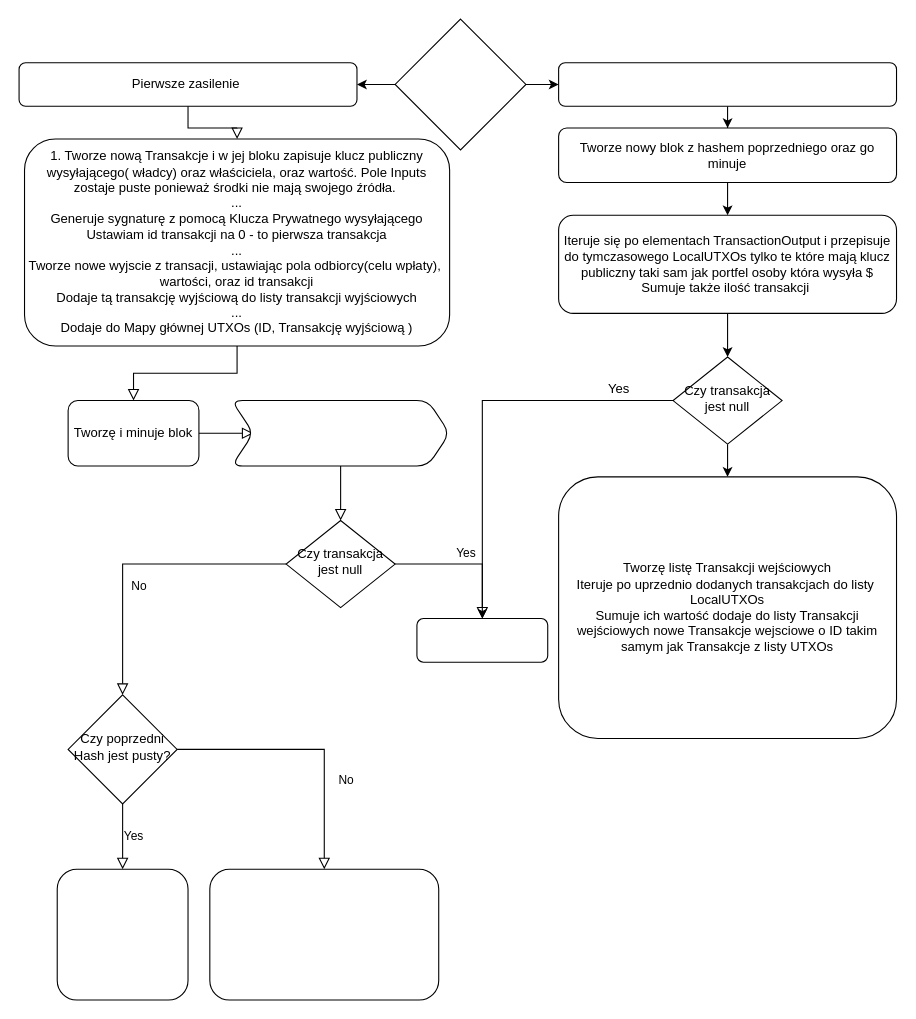
Image size: 916x1019. Some labels were removed from this diagram. Here are the shapes that lost their labels. From the top down, the centre of each, then its label:
point 460,84: Czy to jest pierwsze zasilenie
point 727,84: Przeniesienie własności
point 340,432: Dodawanie transakcji do Listy transakcji w bloku
point 482,639: Wyjdz z dodawania
point 122,934: Dodaj transakcje do listy transakcji w bloku
